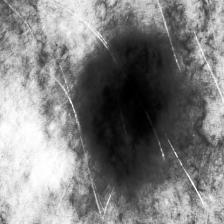Benign Marking or Mole: (84, 38, 170, 176)
